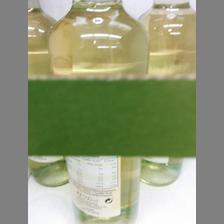Essig: (49, 0, 149, 224)
